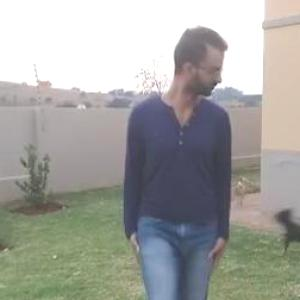follow: (125, 14, 237, 299)
